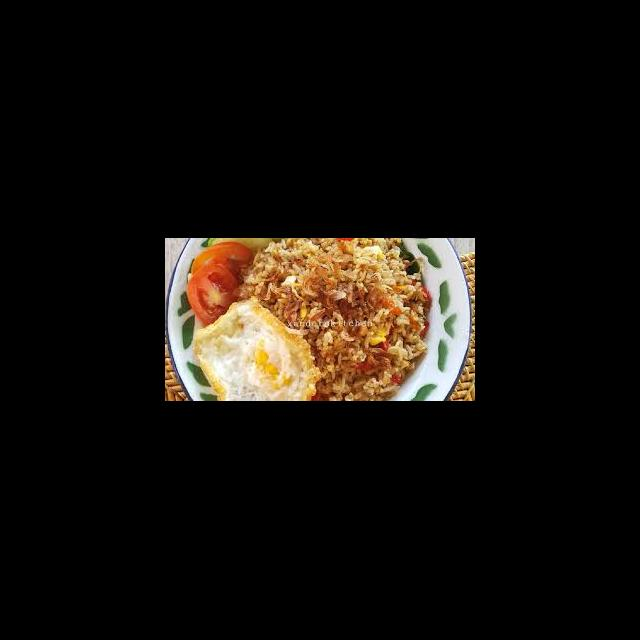food_waste: (206, 257, 410, 383)
